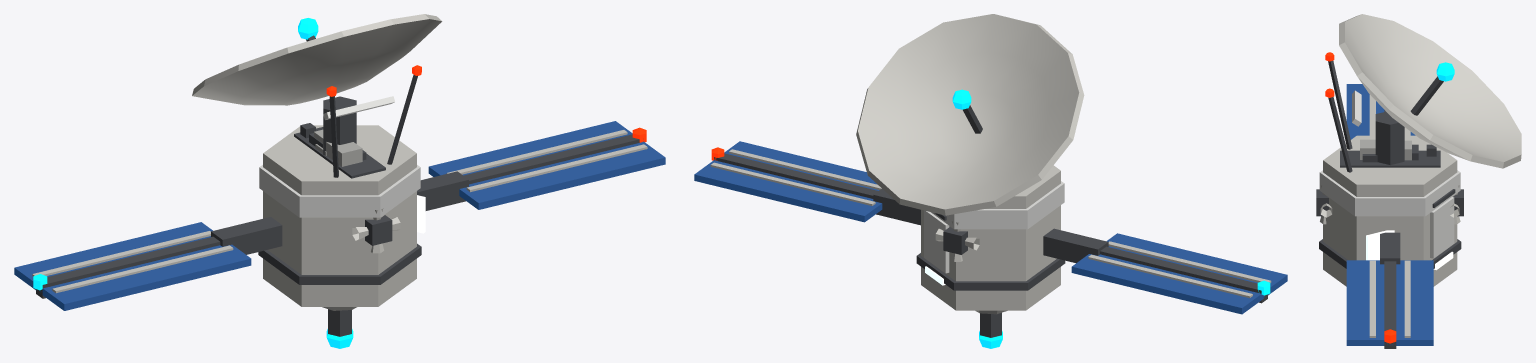
Rendered from satellite_sensor.glb.
3 renders of one model, left to right at view 1: azimuth 30°, elevation 25°; view 2: azimuth 150°, elevation 25°; view 3: azimuth 270°, elevation 25°, orthographic. The views are drawn at different scales.
Parts seen in each view (by area): view 1: satellite_sensor; view 2: satellite_sensor; view 3: satellite_sensor.
Boxes of the visible parts, x1,y1,x2,y2 form: satellite_sensor: (14,14,665,348); satellite_sensor: (694,14,1287,348); satellite_sensor: (1316,14,1521,348).
Bounding box in the file's own units: 1.98 × 1.06 × 0.6589.
